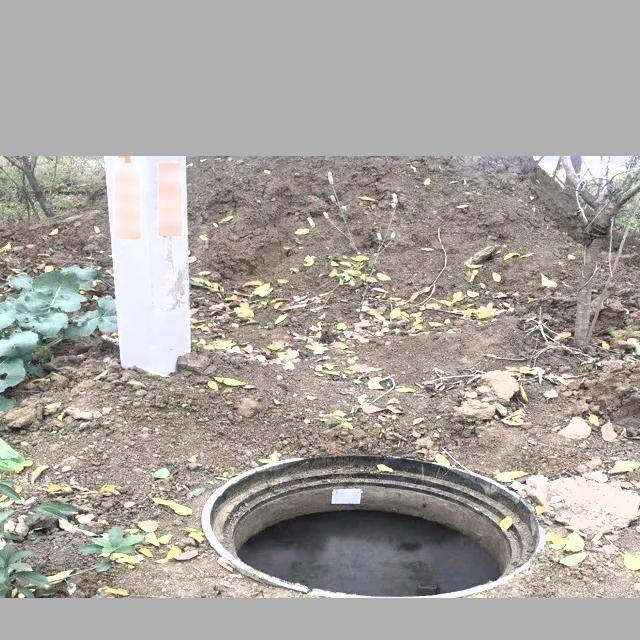lose: (181, 437, 610, 597)
